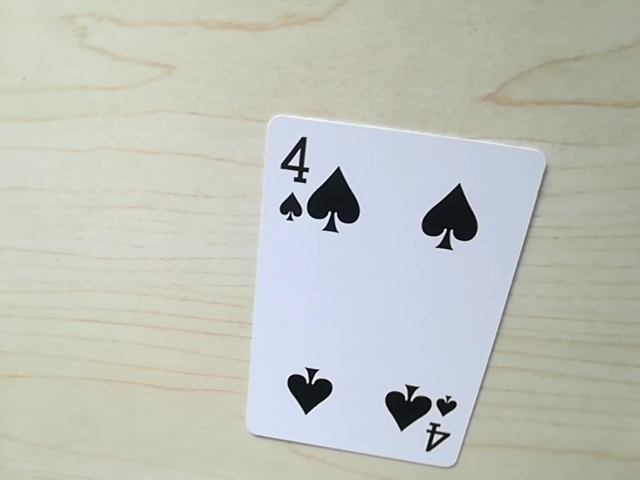ht 4: (268, 125, 326, 233), (414, 392, 459, 461)
